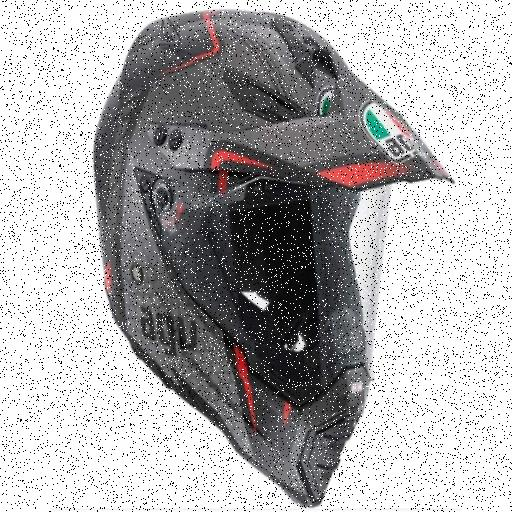Helmet: (95, 12, 450, 504)
